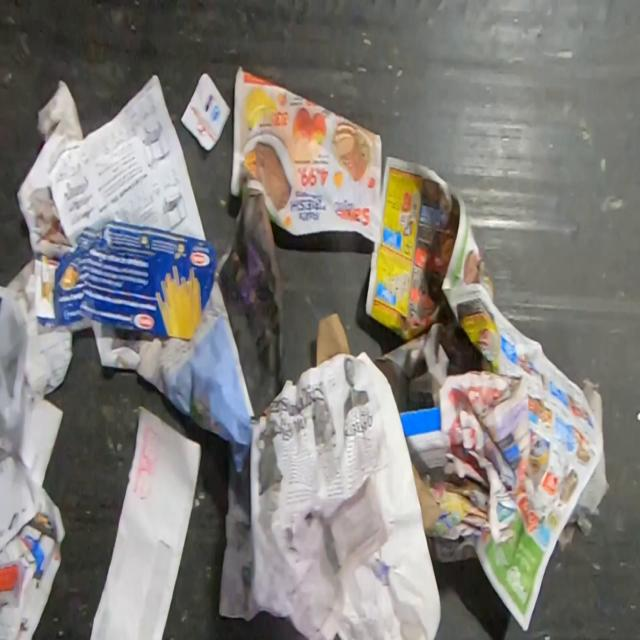cardboard: (25, 218, 219, 342), (398, 407, 488, 537), (372, 329, 429, 411), (178, 70, 232, 153), (315, 307, 353, 367)
